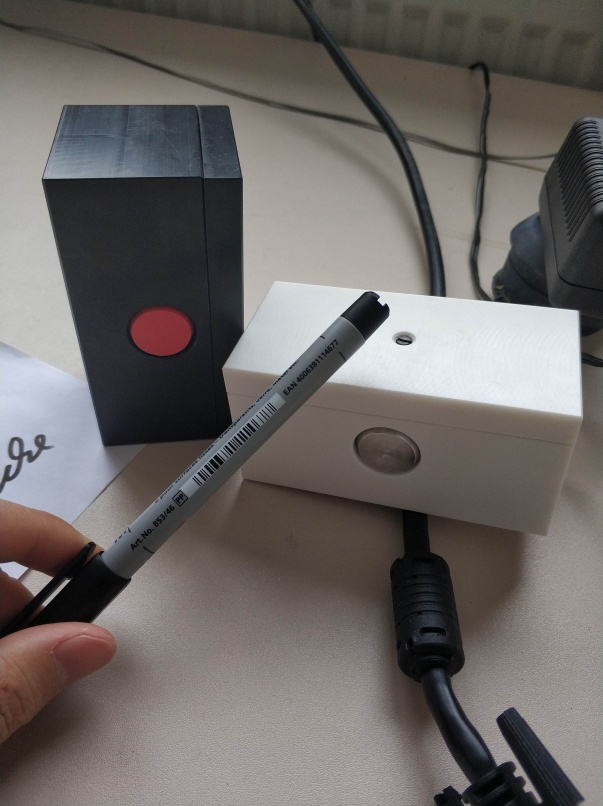black+black+red: (36, 102, 247, 448)
white+white+silver: (218, 277, 585, 540)
